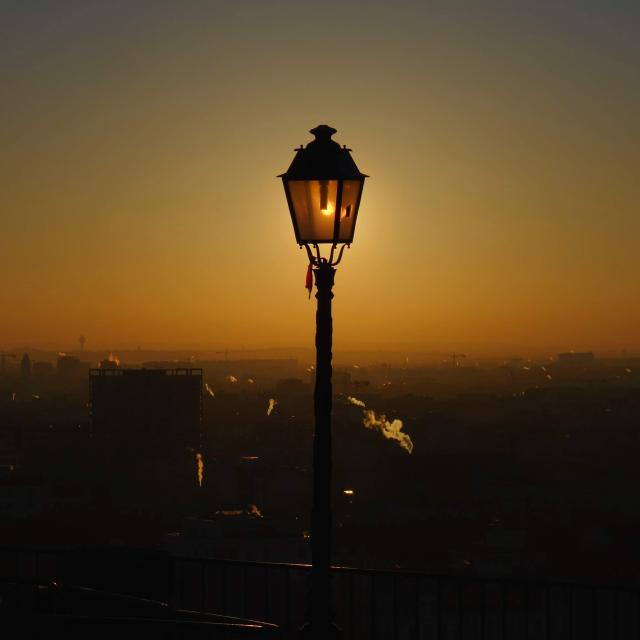Street Light: (274, 124, 370, 596)
